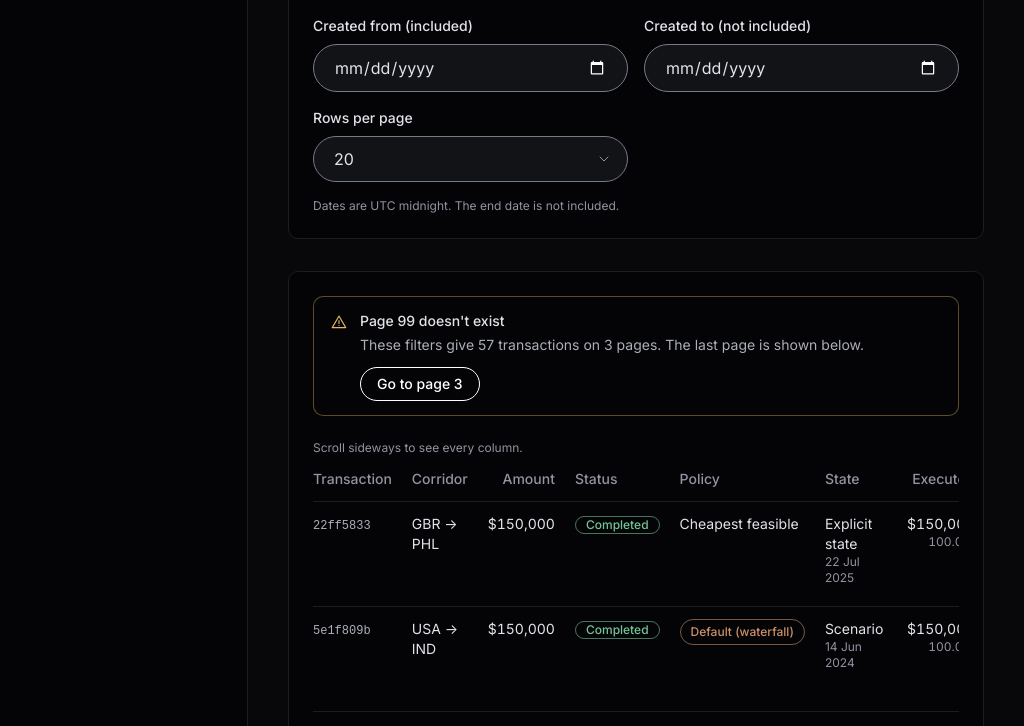
Test: a page past the last one › goes to the last page with an explicit button
The image size is (1024, 726).
(page scrolled)
Step 1. Click the button "Go to page 3" → point(420, 384), box [360,368,480,402]
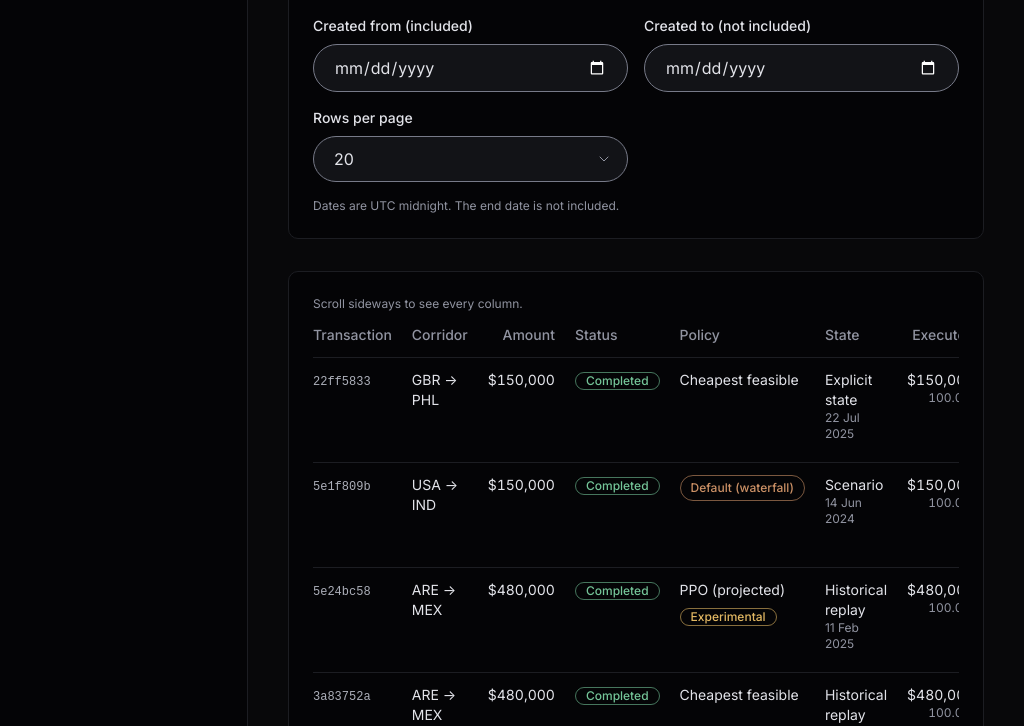
Now the text "Page 99 doesn't exist" is gone
